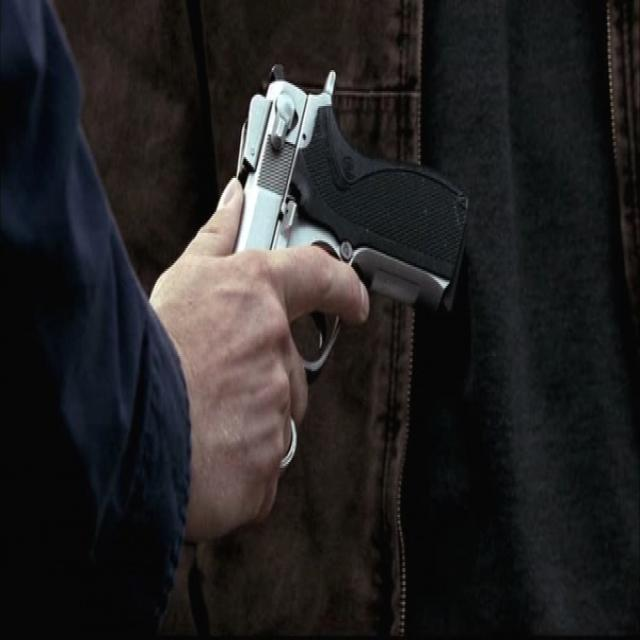weapons: (202, 57, 475, 492)
